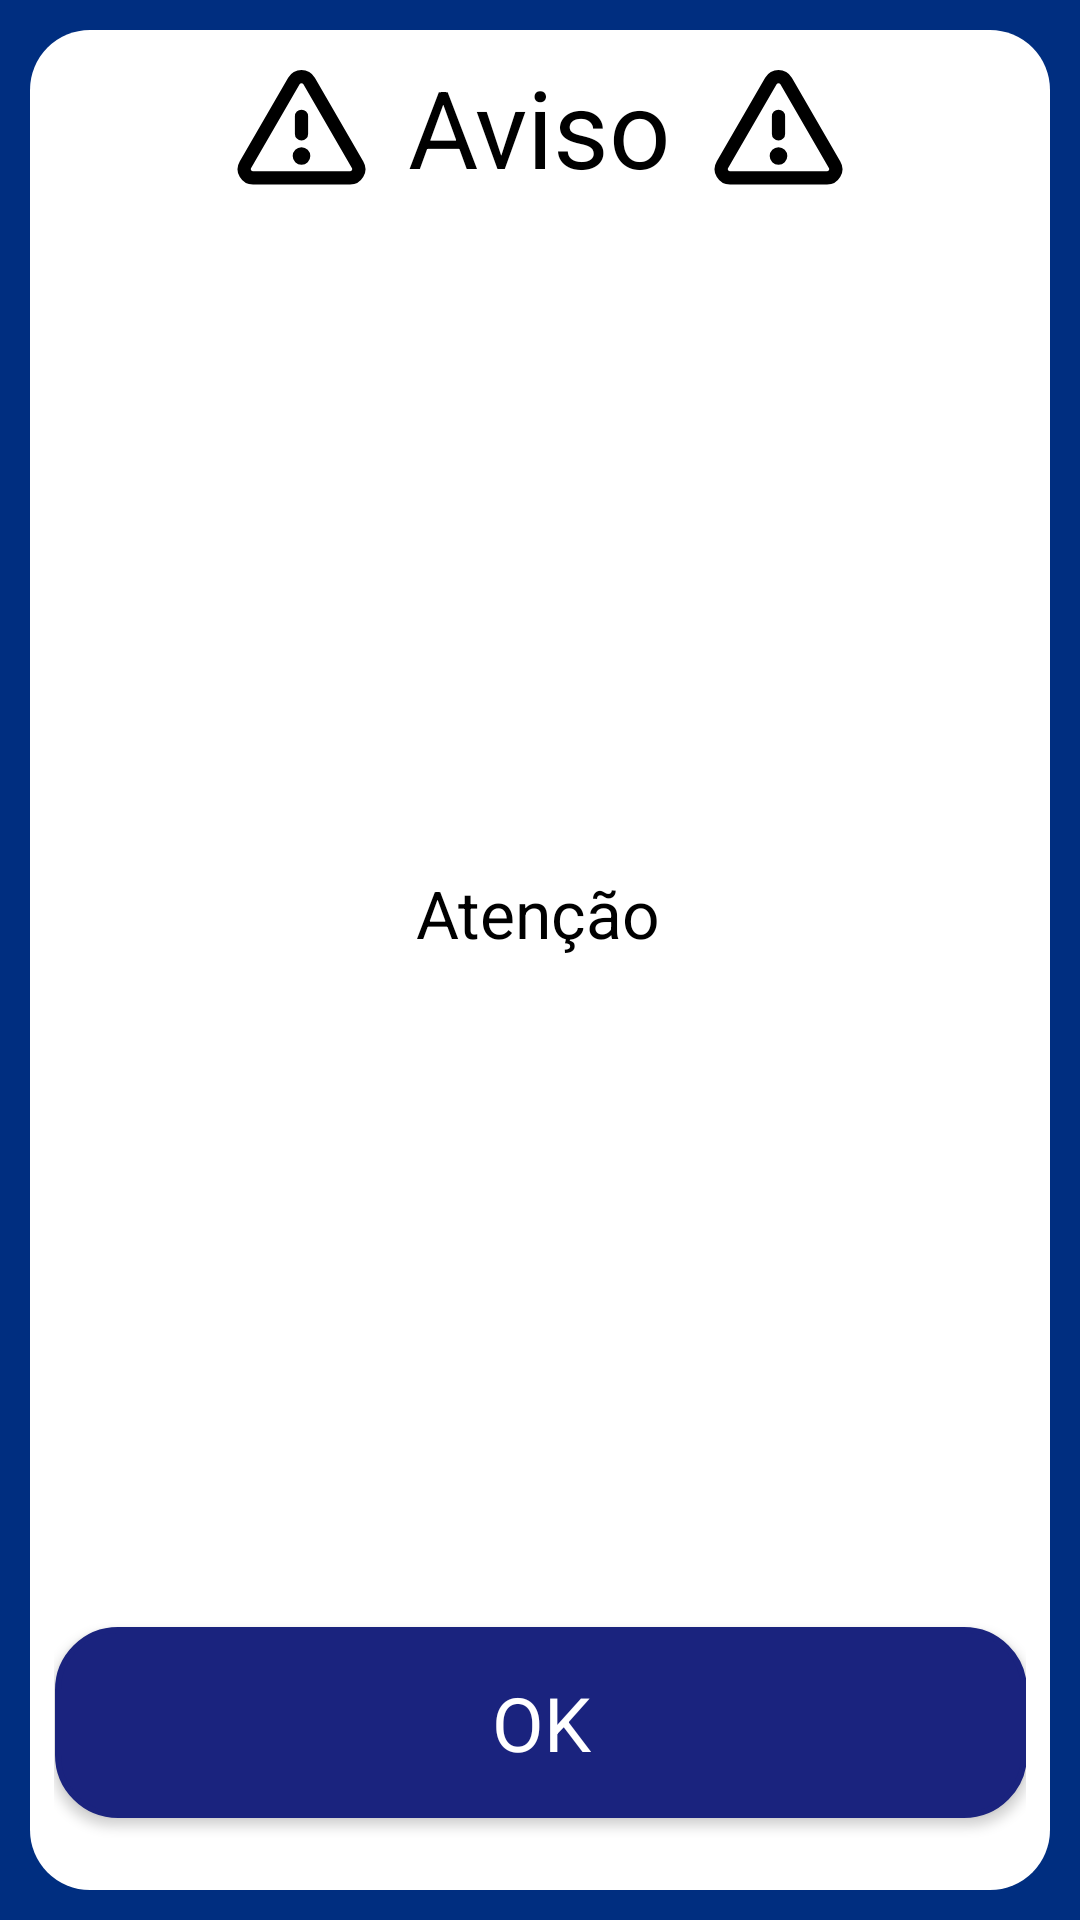

Locate icon controls on the screen. Image size 1080 × 1920, boxes as (x1, y1, x2, y2).
warning: (237, 70, 366, 185), (714, 70, 843, 185)
